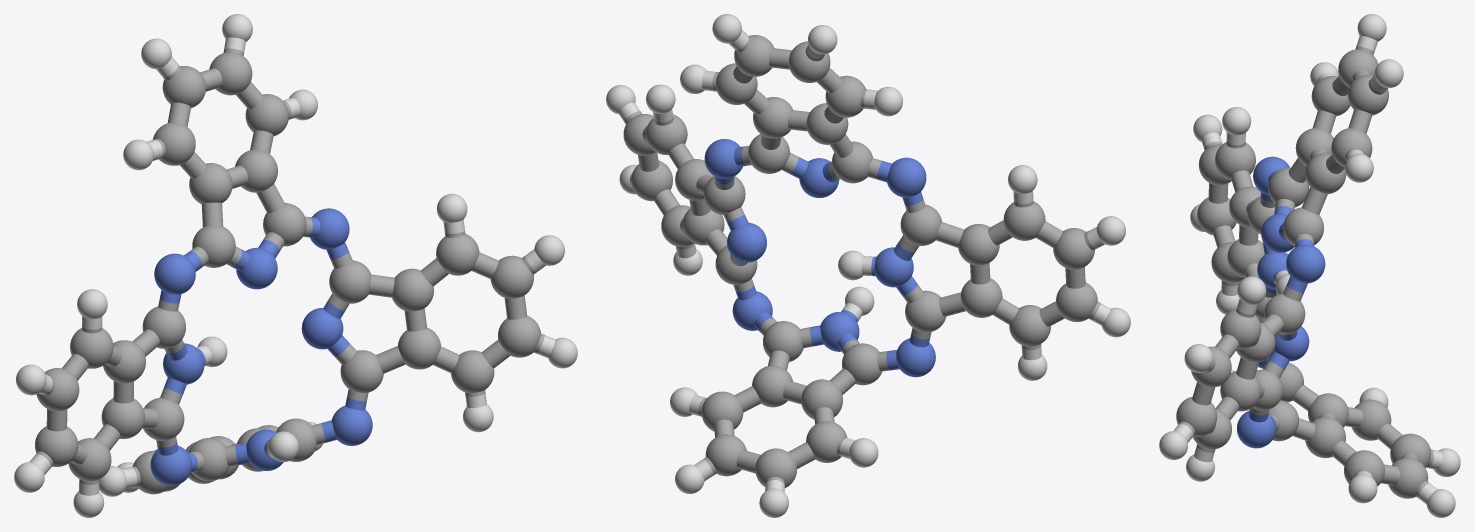
File: skin.glb
3 renders of one model, left to right at view 1: azimuth 30°, elevation 25°; view 2: azimuth 150°, elevation 25°; view 3: azimuth 270°, elevation 25°, orthographic. The views are drawn at different scales.
Parts seen in each view (by area): view 1: atoms, bonds; view 2: atoms, bonds; view 3: atoms, bonds.
Part boxes in pixels (left/top/right/bottom): atoms: left=14, top=14, right=577, bottom=517; bonds: left=29, top=37, right=555, bottom=495; atoms: left=606, top=14, right=1130, bottom=517; bonds: left=618, top=30, right=1110, bottom=492; atoms: left=1159, top=14, right=1460, bottom=517; bonds: left=1173, top=35, right=1442, bottom=504.
Bounding box in the file's own units: 14.72 × 12.49 × 7.5.
